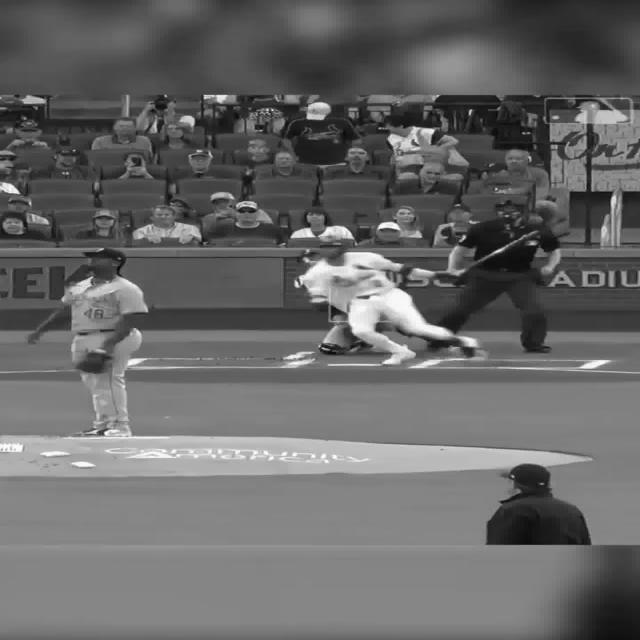baseball_glove: (80, 352, 111, 373)
bat: (464, 228, 542, 276)
shoe: (68, 426, 132, 438), (459, 339, 486, 358), (382, 353, 416, 368)
